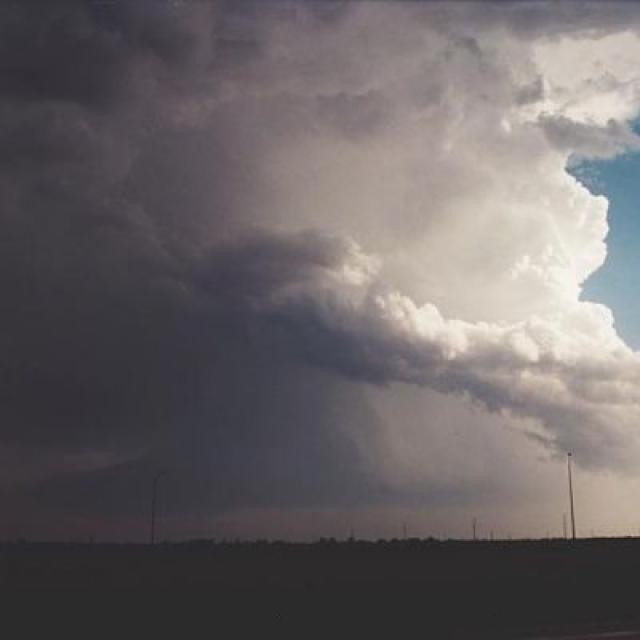Cb: (7, 6, 640, 433)
